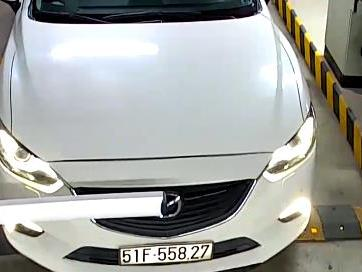number: (119, 242, 213, 264)
